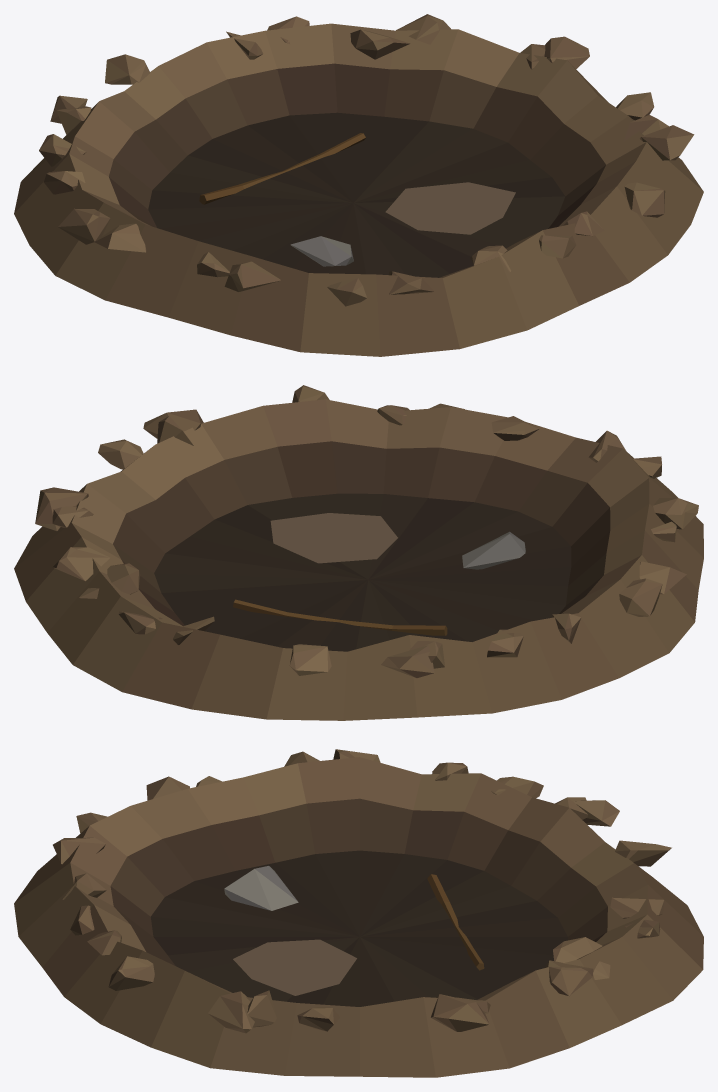
Rendered from waste_pit_2_finita.glb.
3 renders of one model, top to bottom at view 1: azimuth 30°, elevation 25°; view 2: azimuth 150°, elevation 25°; view 3: azimuth 270°, elevation 25°, orthographic. The views are drawn at different scales.
Visible parts, largest first — view 1: waste_pit_2_finita; view 2: waste_pit_2_finita; view 3: waste_pit_2_finita.
Boxes of the visible parts, bbox=[...] form: waste_pit_2_finita: bbox=[14, 14, 703, 356]; waste_pit_2_finita: bbox=[14, 385, 703, 720]; waste_pit_2_finita: bbox=[14, 749, 703, 1077].
Size of the model in its own units: 8.33 by 0.9398 by 8.57.
